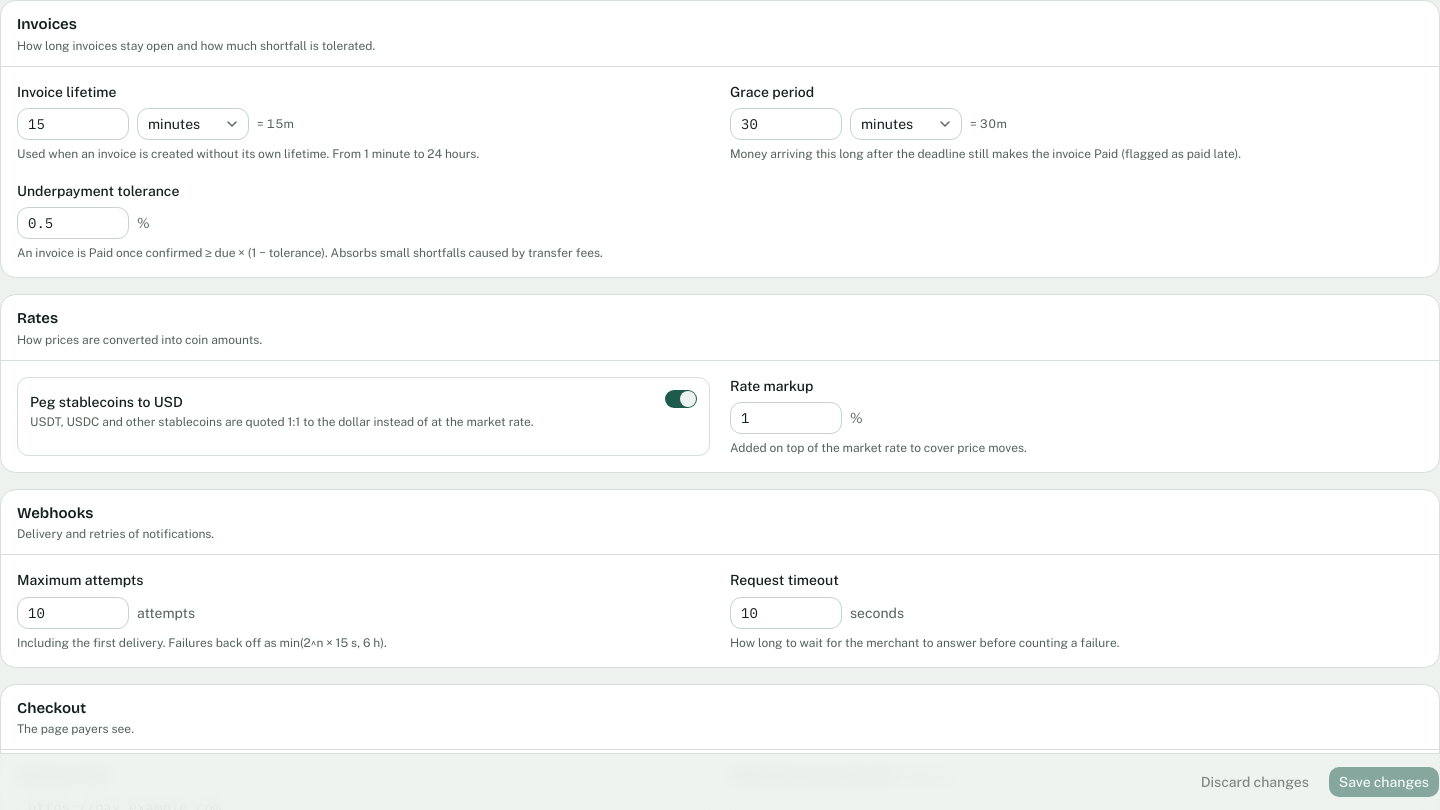
Test: SettingsForm › maps server field errors back to the operator's fields
The image size is (1440, 810).
Replace the text in the field labelled "Rate markup" with "2" at (786, 418), box 730,402 -> 842,434
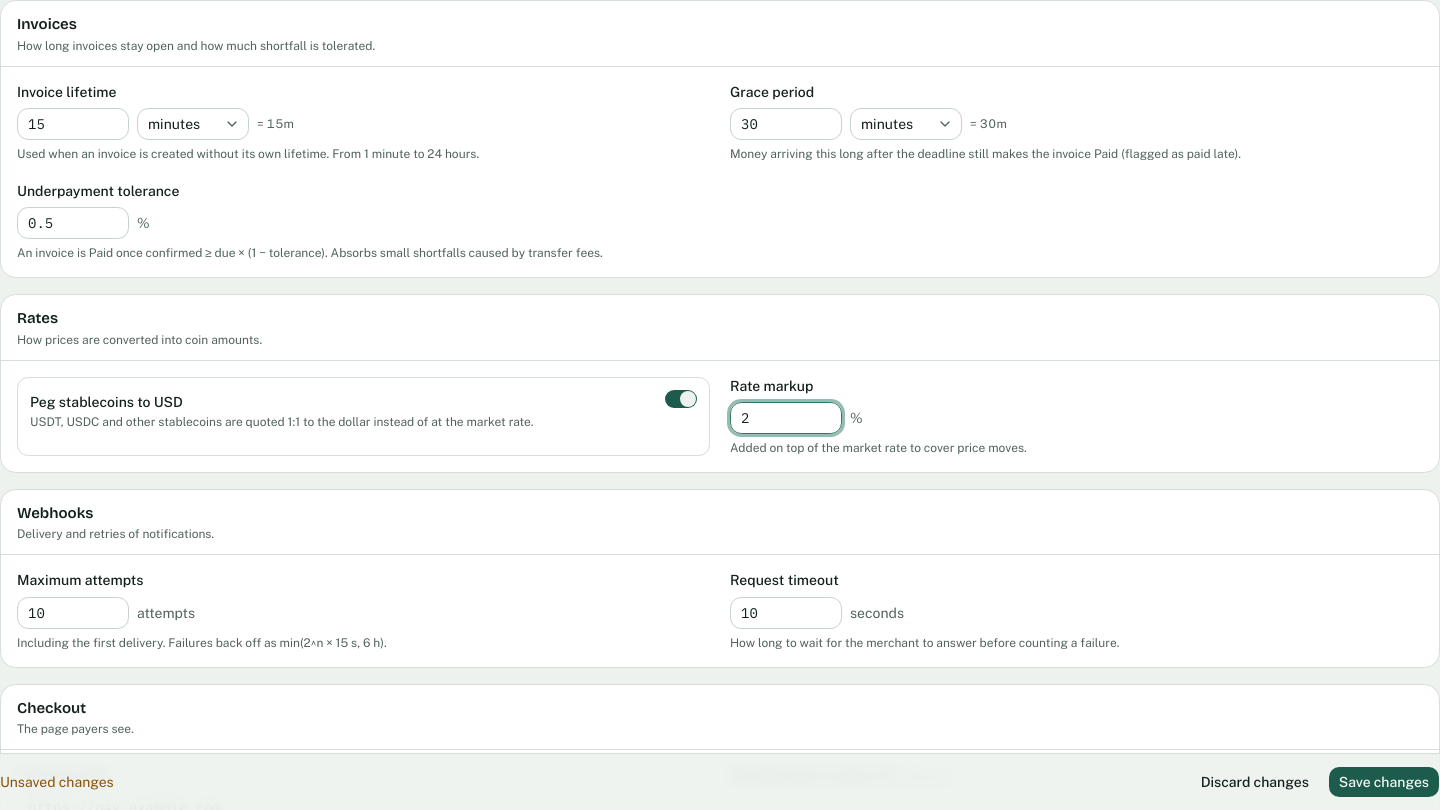
Click the button "Save changes" at (1384, 782), box 1328,766 -> 1439,798
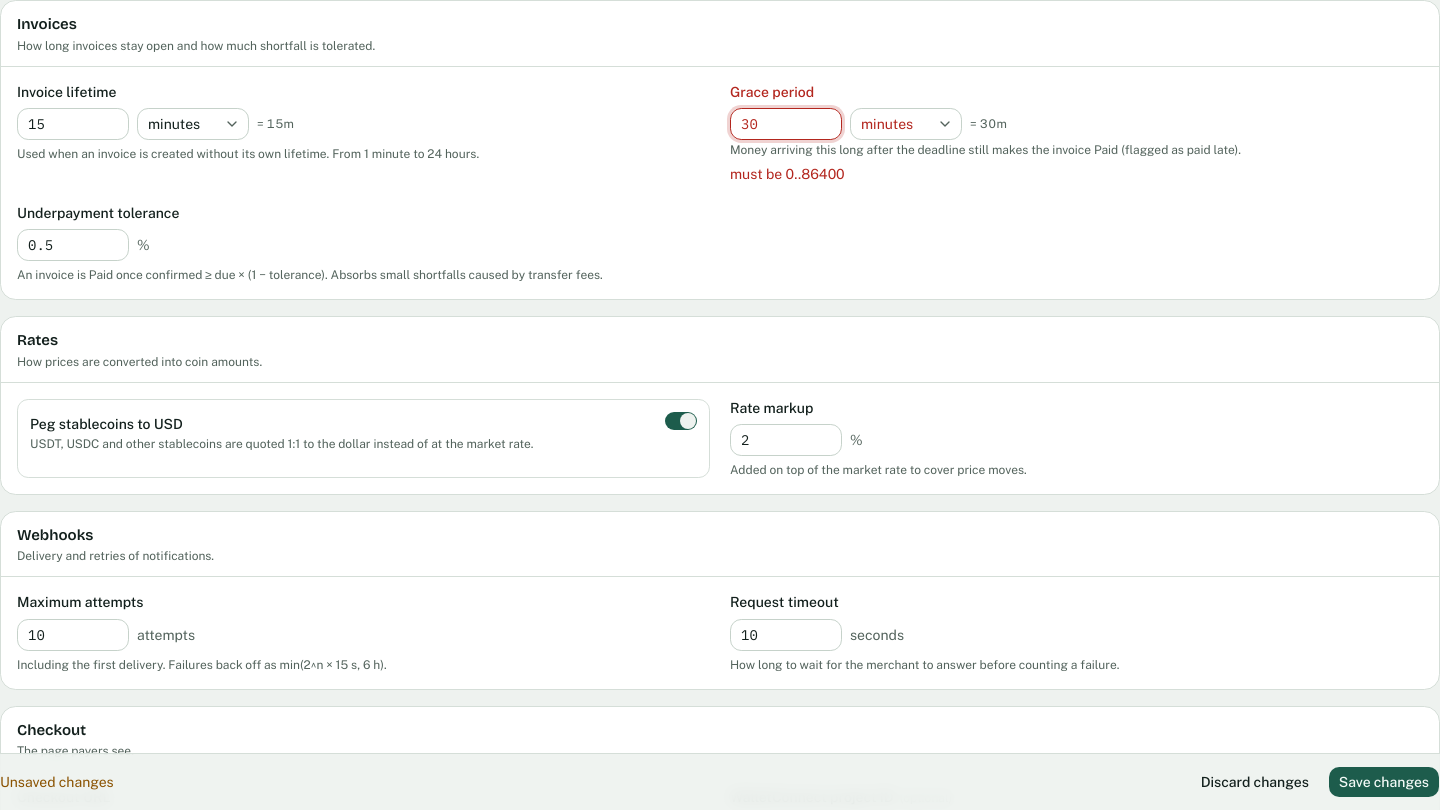
Expected: the text "must be 0..86400" is shown, 730,166 -> 845,182
